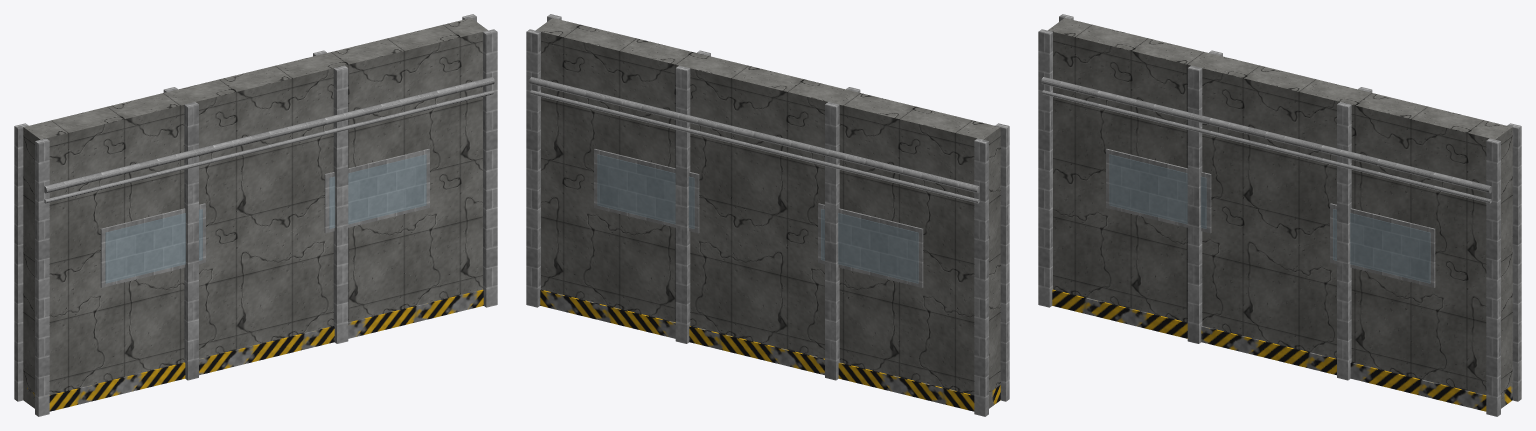
File: wall_12.obj
The picture shows the model from 3 angles, left to right: view 1: azimuth 30°, elevation 25°; view 2: azimuth 150°, elevation 25°; view 3: azimuth 330°, elevation 25°; orthographic projection.
Bounding box in the file's own units: 12.3 × 7 × 1.38.
Materials: 6 (4 with a texture image).
